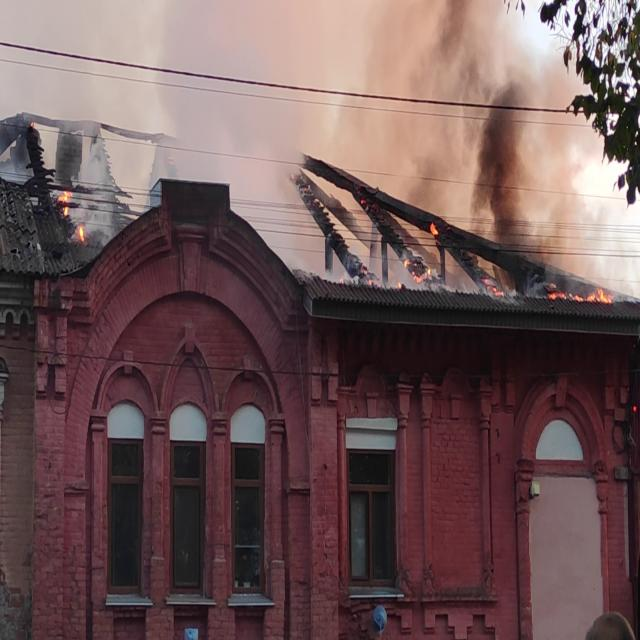fire: (544, 266, 615, 308)
smoke: (475, 86, 531, 256)
